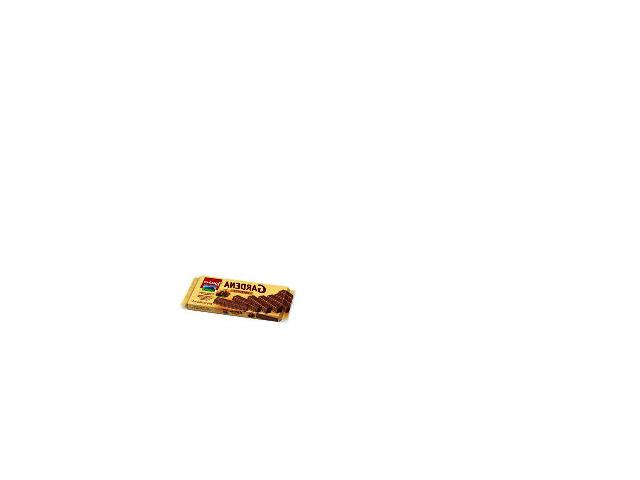chocolate: (177, 274, 300, 317)
